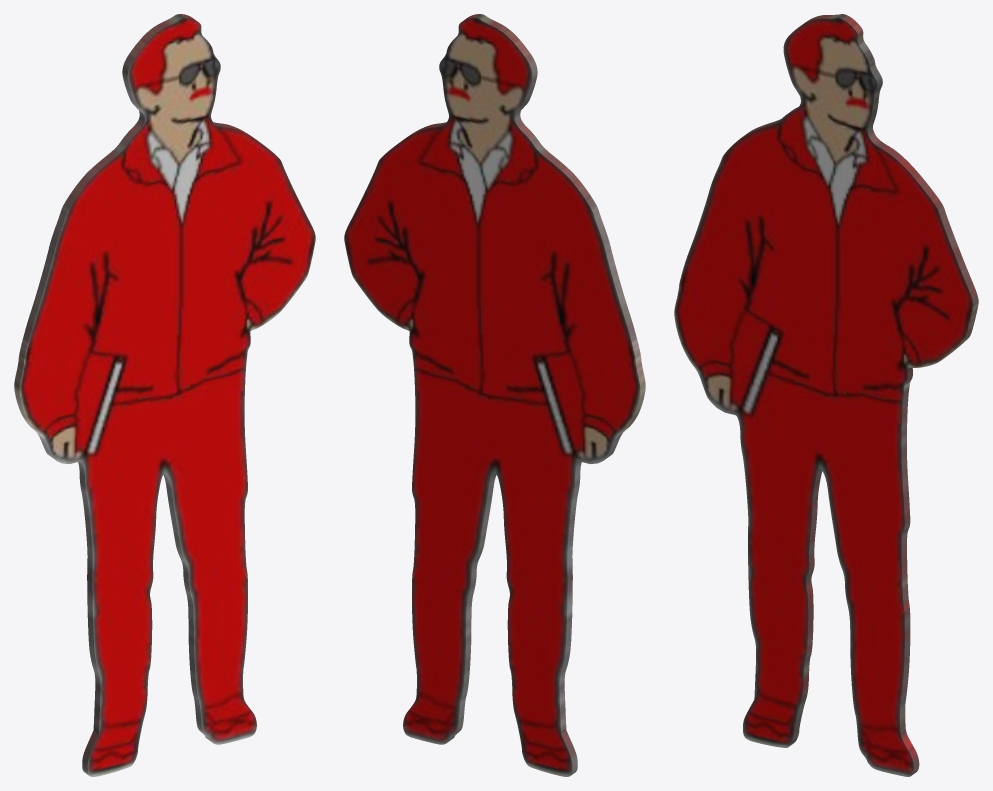
File: RedPedestrian.dae
The picture shows the model from 3 angles, left to right: view 1: azimuth 30°, elevation 25°; view 2: azimuth 150°, elevation 25°; view 3: azimuth 330°, elevation 25°; orthographic projection.
Visible parts, largest first — view 1: Curve; view 2: Curve; view 3: Curve.
Boxes of the visible parts, x1,y1,x2,y2 form: Curve: (14,14,315,776); Curve: (344,14,645,776); Curve: (674,14,978,776).
Size of the model in its own units: 0.8064 by 0.025 by 1.92.
1 material, 1 textured.
